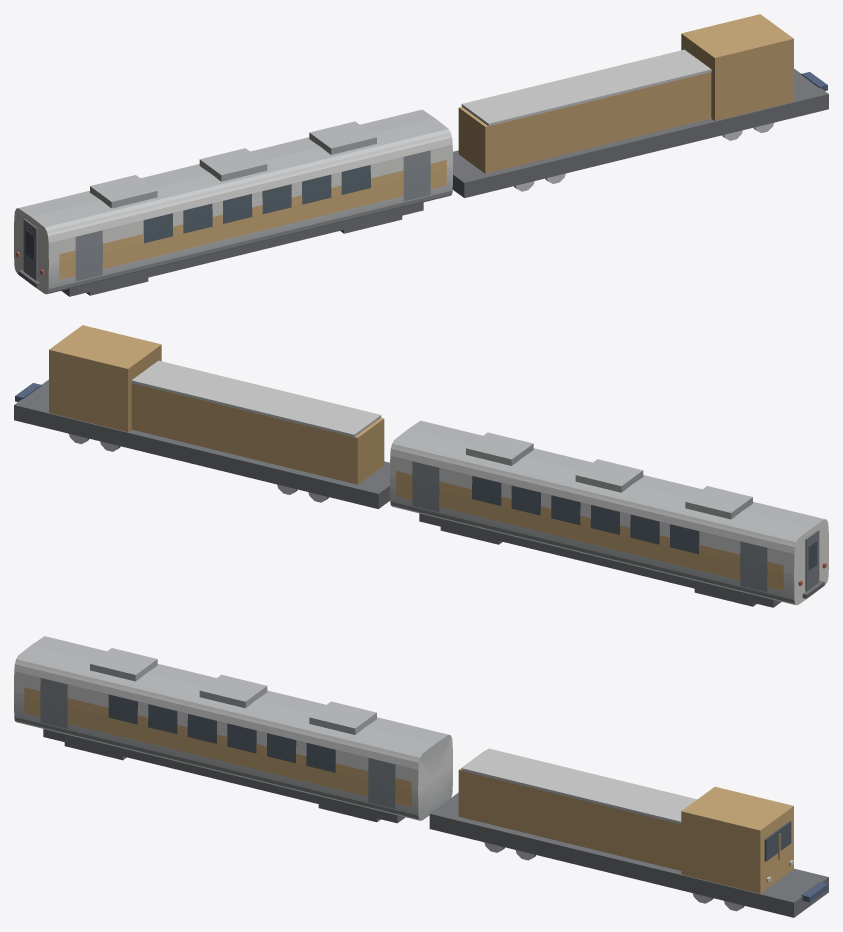
Rendered from 05_TRA_classic_3x2-05.glb.
The picture shows the model from 3 angles, top to bottom: view 1: azimuth 30°, elevation 25°; view 2: azimuth 150°, elevation 25°; view 3: azimuth 330°, elevation 25°; orthographic projection.
Size of the model in its own units: 37.99 by 4.1 by 2.94.
